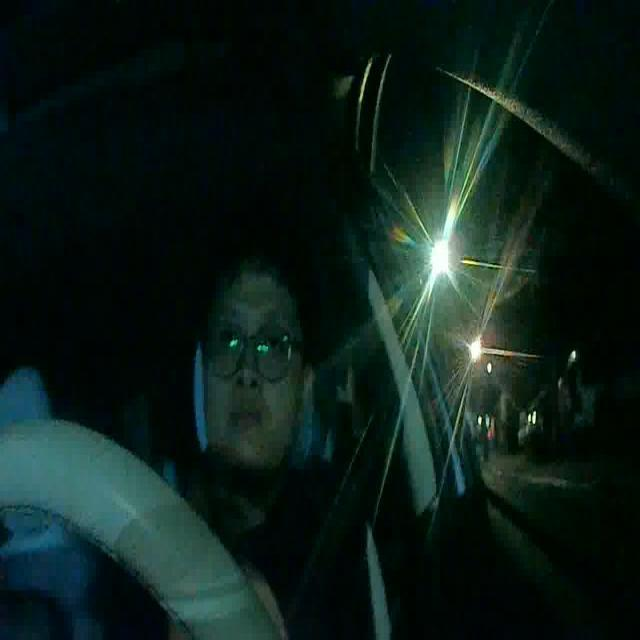Attentive: (184, 201, 329, 471)
Eye-Open: (262, 329, 288, 359), (217, 323, 242, 353)
Normal: (225, 400, 267, 437)
